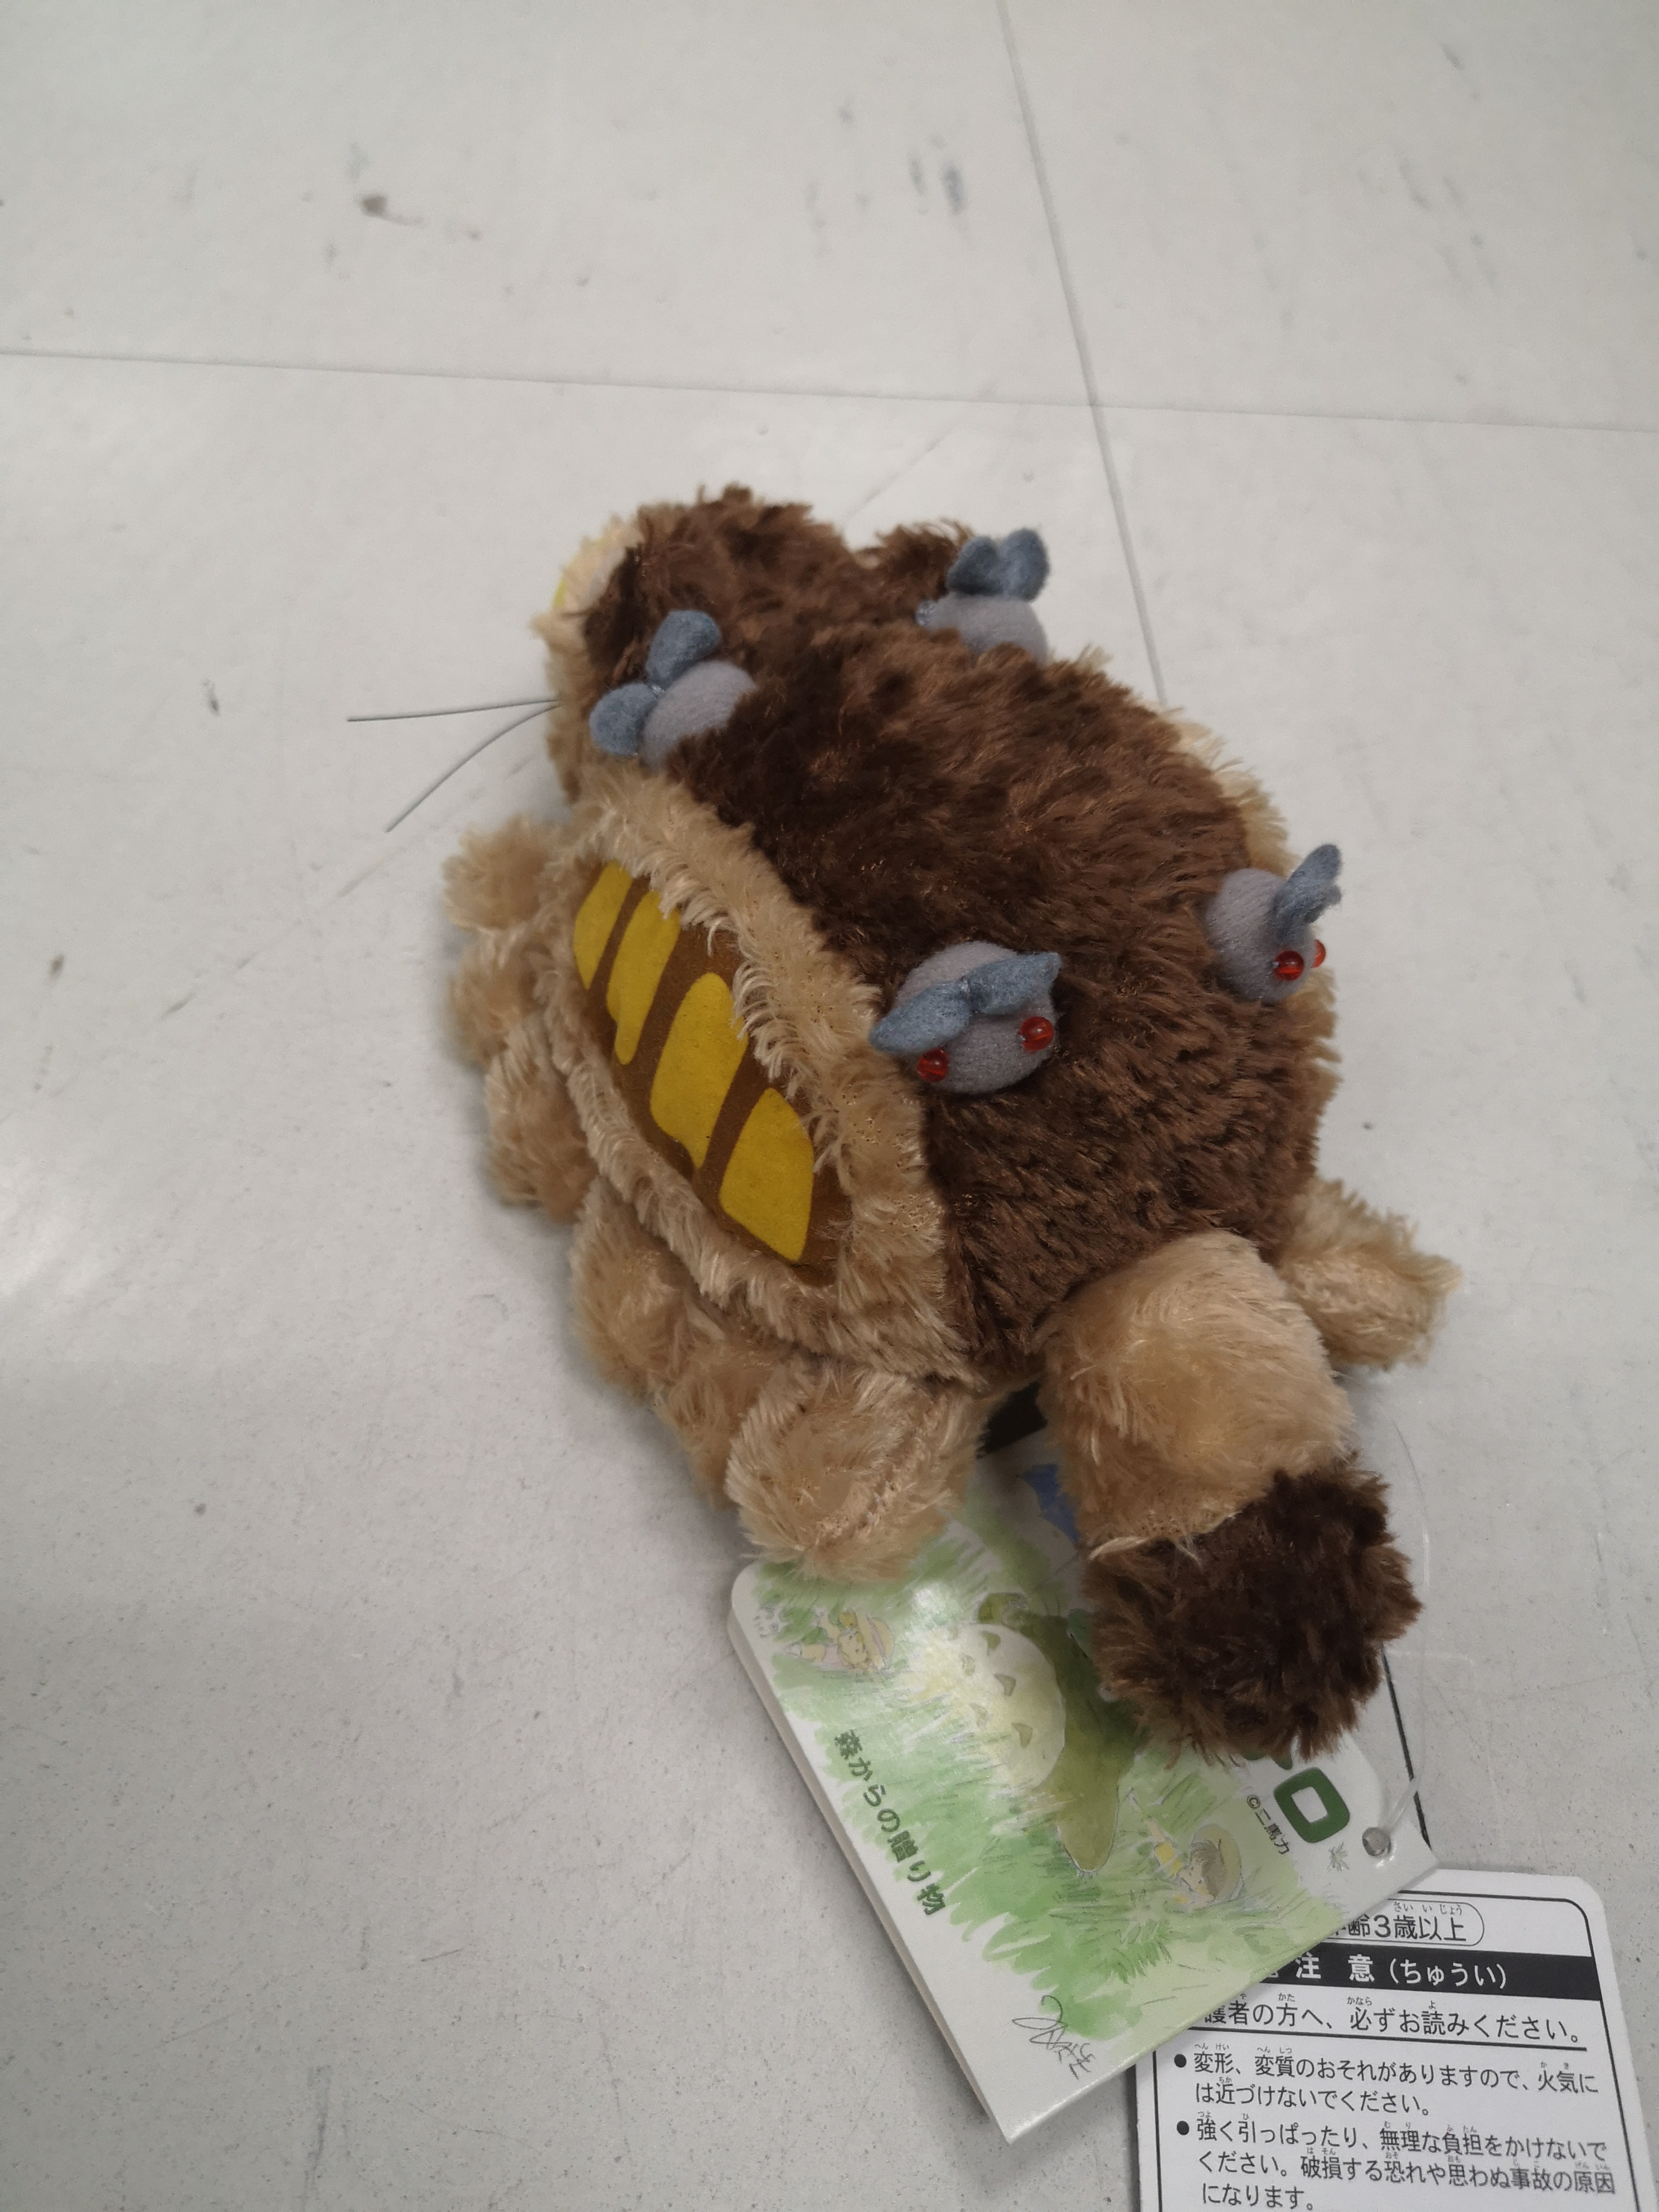nekobus: (335, 482, 1480, 1780)
